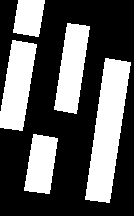parkingspot: (85, 58, 130, 202), (0, 40, 36, 130), (54, 23, 89, 113), (24, 134, 57, 193), (13, 0, 44, 36)
